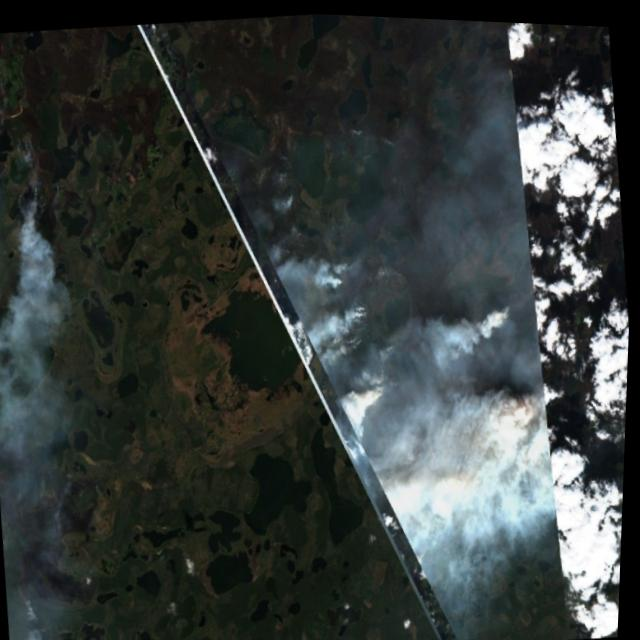fire: (267, 217, 581, 622), (0, 117, 72, 247)
